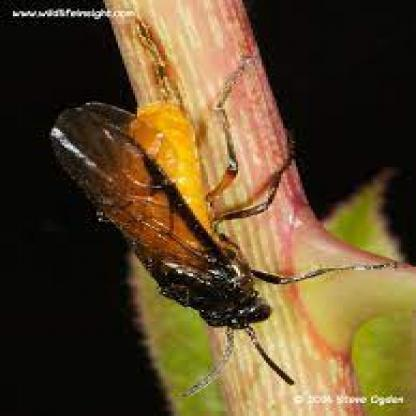sawfly: (24, 15, 406, 393)
